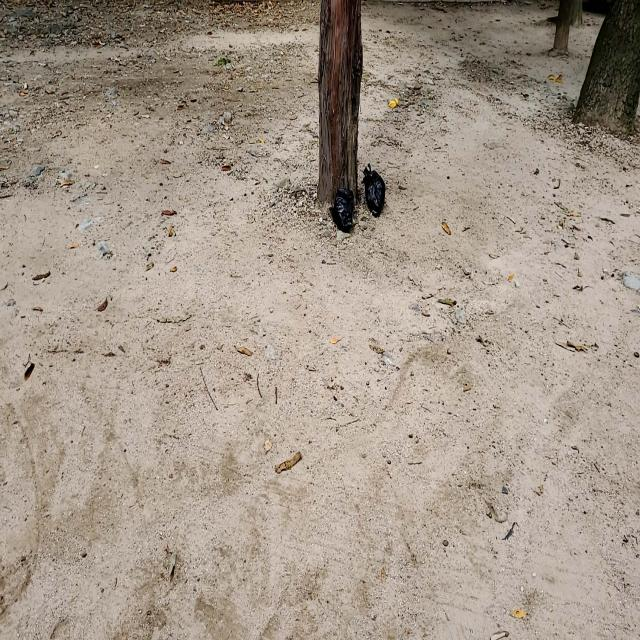garbage bag: (361, 161, 386, 218), (330, 185, 355, 233)
